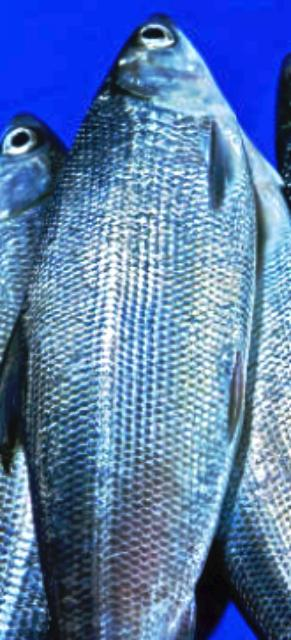Healthy Fish: (28, 16, 260, 640)
